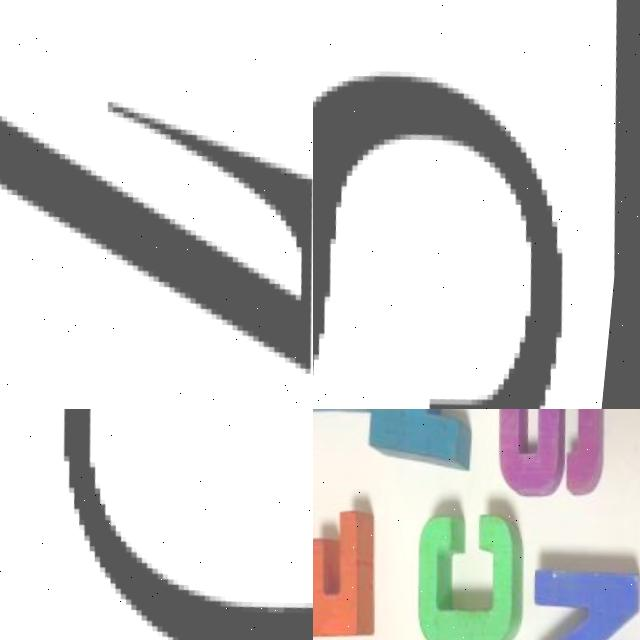C: (410, 490, 535, 640)
E: (313, 498, 388, 640)
K: (362, 409, 483, 473)
N: (526, 541, 640, 640)
O: (69, 409, 313, 640)
S: (313, 12, 603, 409), (484, 409, 614, 499)
Z: (0, 0, 313, 409)
